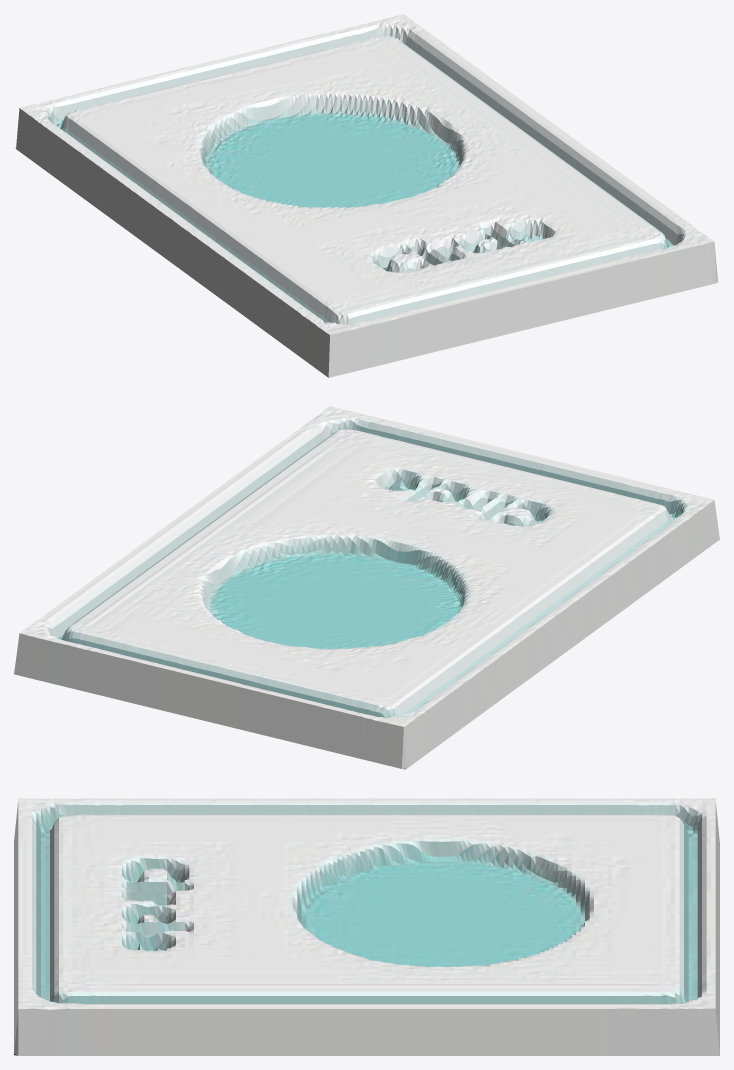
The picture shows the model from 3 angles, top to bottom: view 1: azimuth 30°, elevation 25°; view 2: azimuth 150°, elevation 25°; view 3: azimuth 270°, elevation 25°; orthographic projection. The views are drawn at different scales.
Parts seen in each view (by area): view 1: imagetostl_mesh0; view 2: imagetostl_mesh0; view 3: imagetostl_mesh0.
Part boxes in pixels (x1,y1,x2,y2): imagetostl_mesh0: (14,14,719,377); imagetostl_mesh0: (14,406,719,769); imagetostl_mesh0: (14,798,719,1055).
Size of the model in its own units: 2563 by 254 by 3569.
